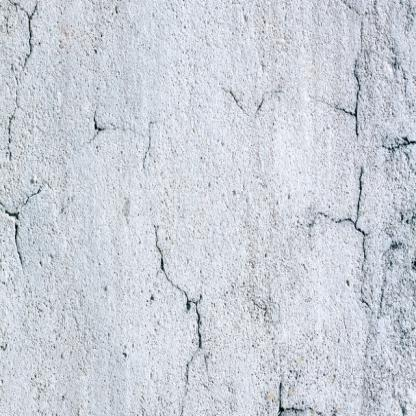branched cracks: (154, 226, 203, 415), (312, 0, 364, 142), (318, 163, 367, 271), (0, 184, 47, 266), (9, 0, 37, 70), (277, 380, 310, 415), (7, 91, 18, 155)
